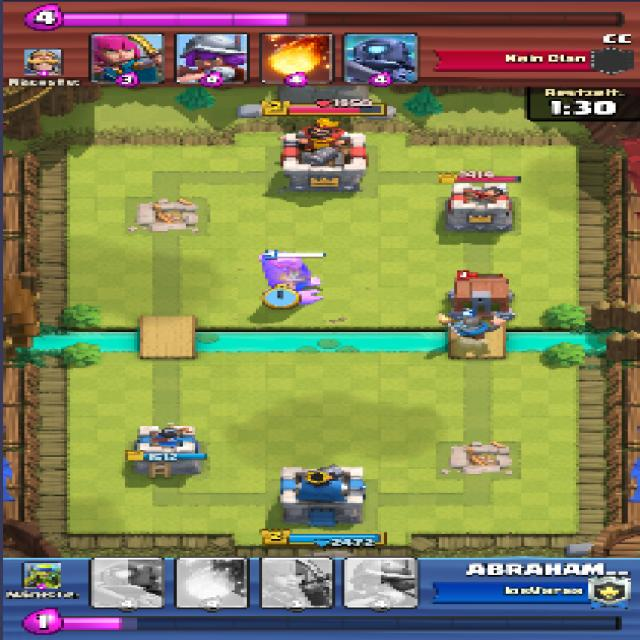Player-Giant: (258, 253, 324, 306)
Player-GoblinCage: (445, 274, 518, 321)
Player-Knight: (438, 312, 506, 340)
